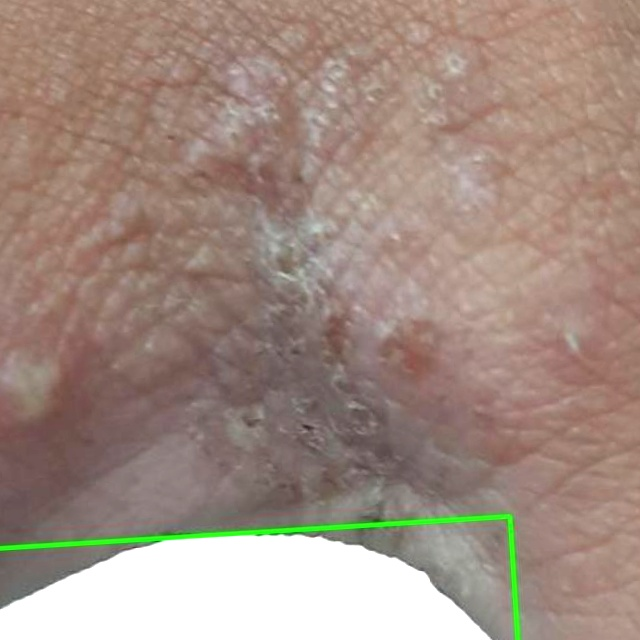Scabies: (0, 516, 518, 639)
